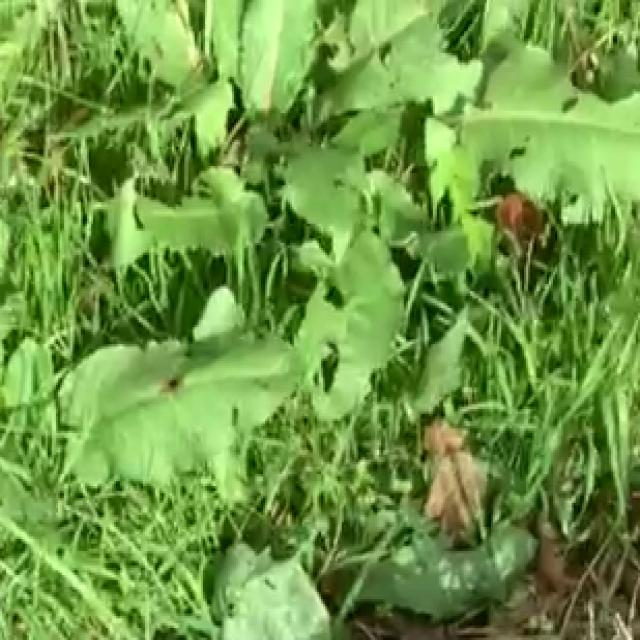organic waste: (58, 0, 640, 529)
